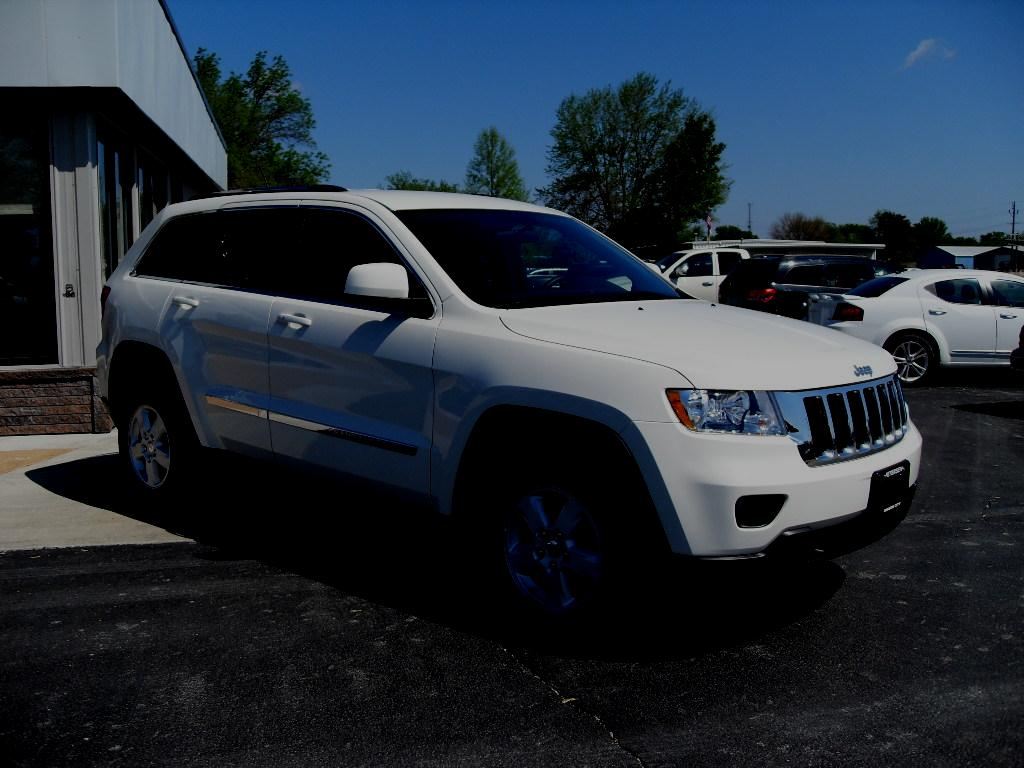jeep: (841, 355, 891, 387)
